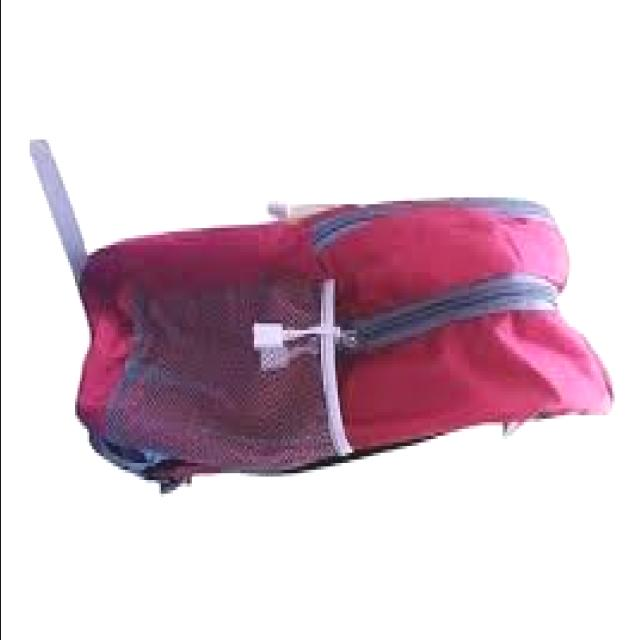backpack: (75, 192, 617, 495)
